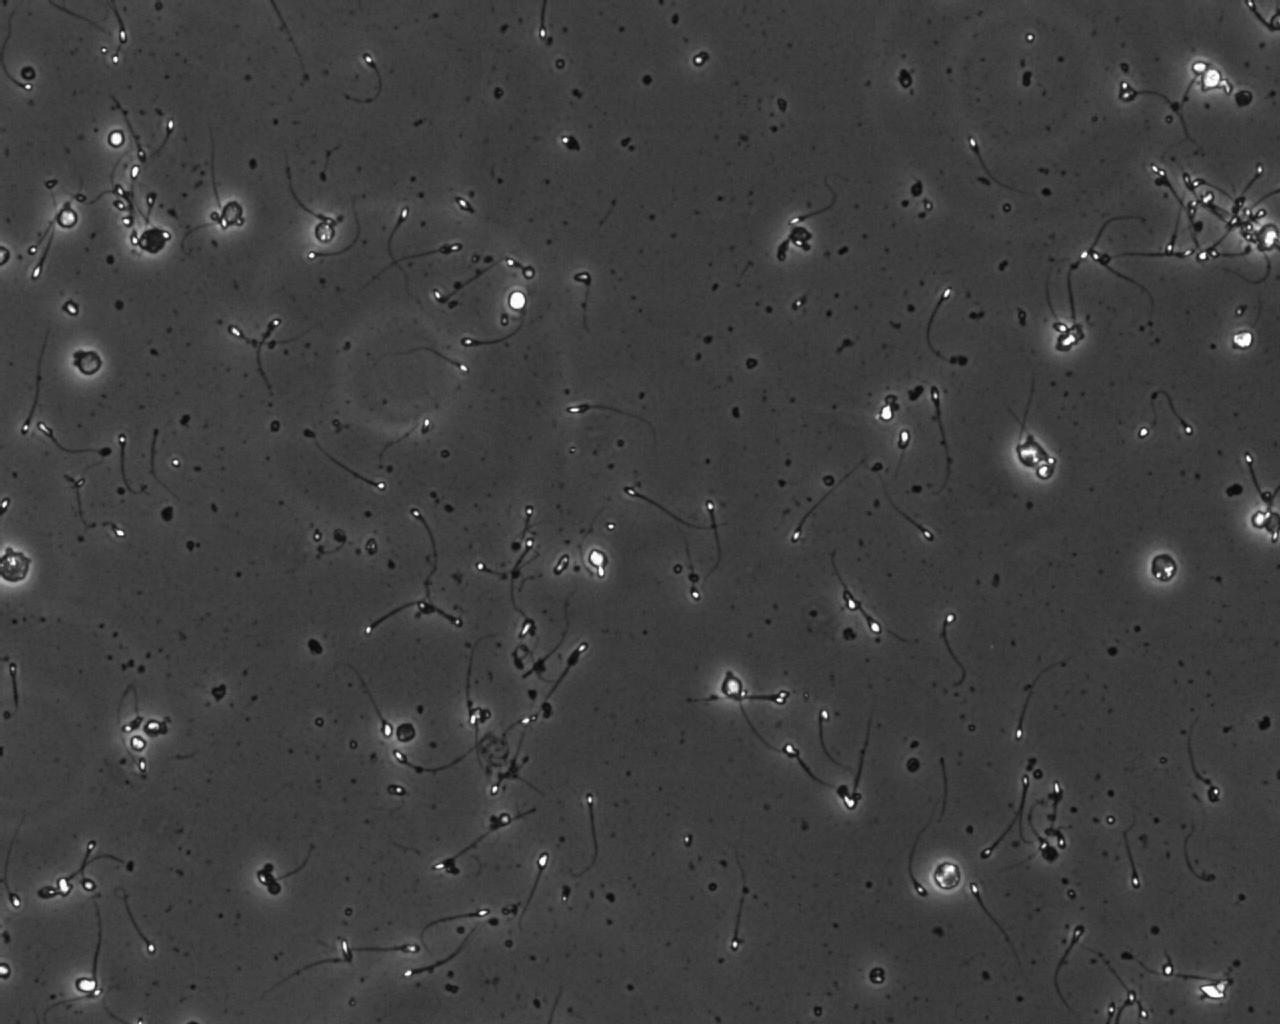cell: (927, 856, 967, 897), (1145, 548, 1184, 588), (0, 544, 36, 588), (1249, 216, 1280, 258), (134, 224, 171, 258), (1013, 437, 1047, 471), (73, 346, 104, 379), (217, 197, 247, 229), (1051, 327, 1080, 356), (718, 672, 747, 701), (52, 204, 82, 232), (1227, 327, 1258, 353), (503, 286, 531, 315), (1197, 64, 1225, 93), (392, 718, 419, 747), (311, 218, 339, 247), (584, 546, 611, 573), (1246, 506, 1272, 532), (1231, 85, 1257, 110), (125, 731, 152, 755), (865, 962, 889, 988), (103, 126, 127, 152)
